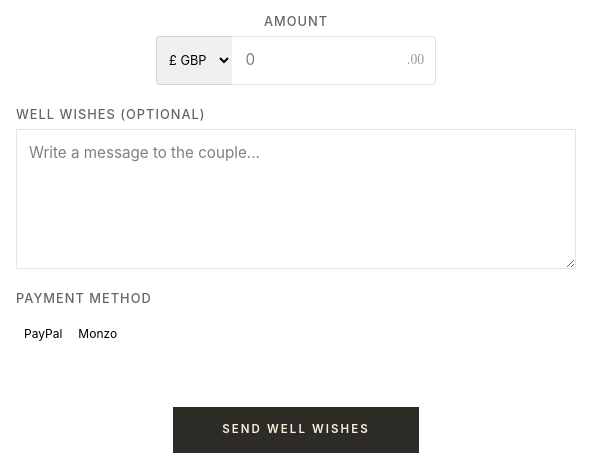
Scenario: GiftContributionForm › filters payment methods by selected currency
Expected: the button "PayPal" is shown, [16,313,70,355]
Expected: the button "Monzo" is shown, [70,313,125,355]
Note: Switch to USD — only PayPal accepts USD (Auto-selected, grid hidden)
Select "$ USD" in the dropdown at (194, 60), box [156,36,232,85]
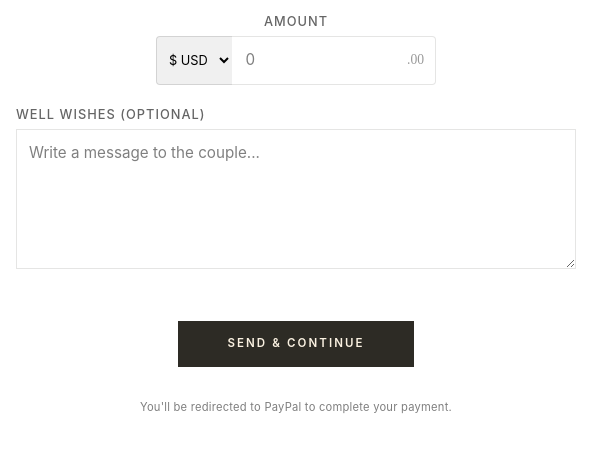
Expected: the text "Wise" is not shown
Expected: the button "Monzo" is gone
Expected: the button "Send & Continue" is shown, [178,321,414,367]
Note: Switch to EUR — only Wise accepts EUR (Auto-selected, grid hidden)
Select "€ EUR" in the dropdown at (194, 60), box [156,36,232,85]
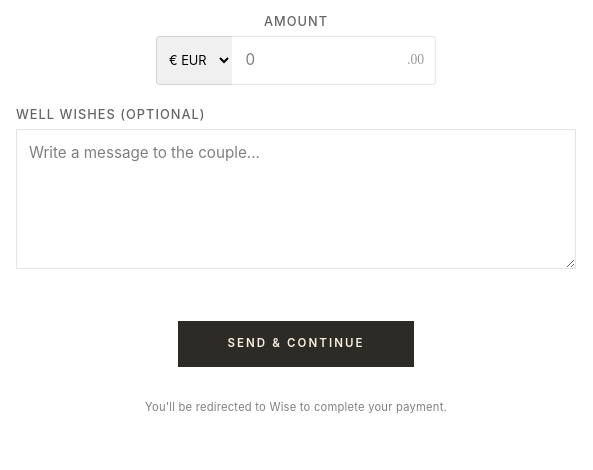
Expected: the button "Monzo" is not shown
Expected: the button "Send & Continue" is shown, [178,321,414,367]
Expected: the text "PayPal" is gone
